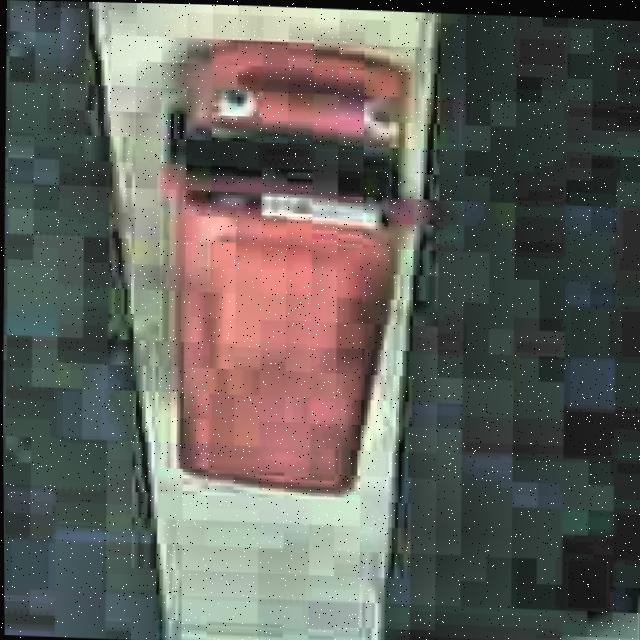bus: (154, 35, 429, 501)
